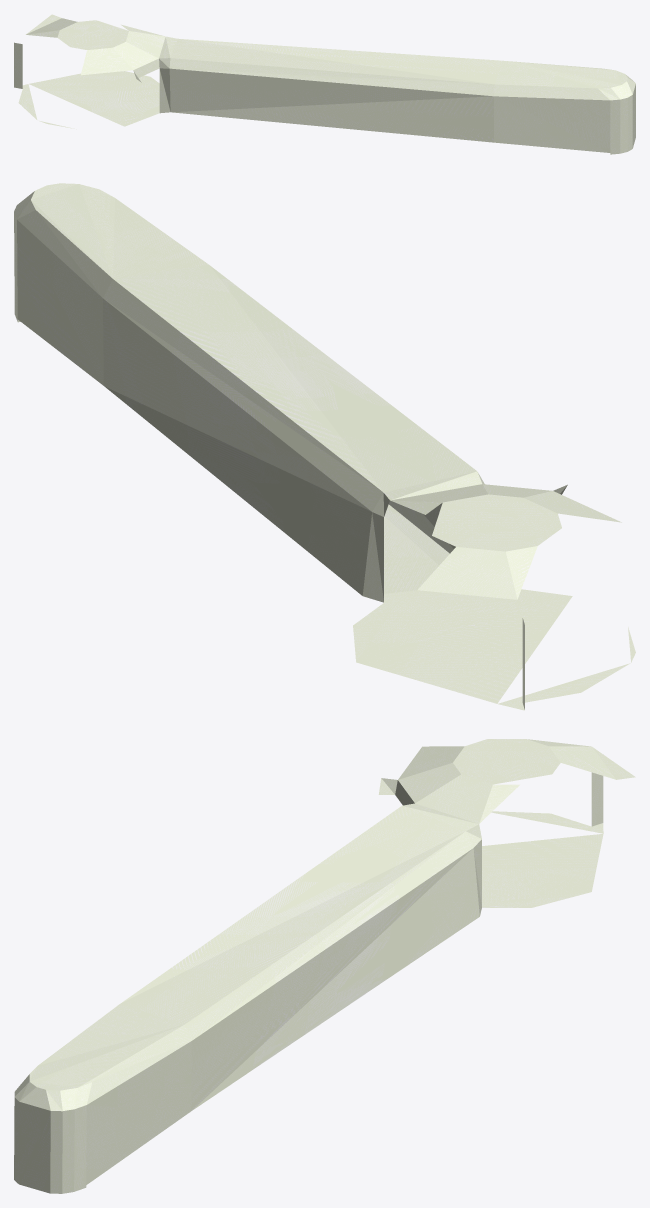
3 views of the same model, one above another, from view 1: azimuth 30°, elevation 25°; view 2: azimuth 150°, elevation 25°; view 3: azimuth 270°, elevation 25° (orthographic). The views are drawn at different scales.
Size of the model in its own units: 0.5874 by 0.1107 by 0.4494.
